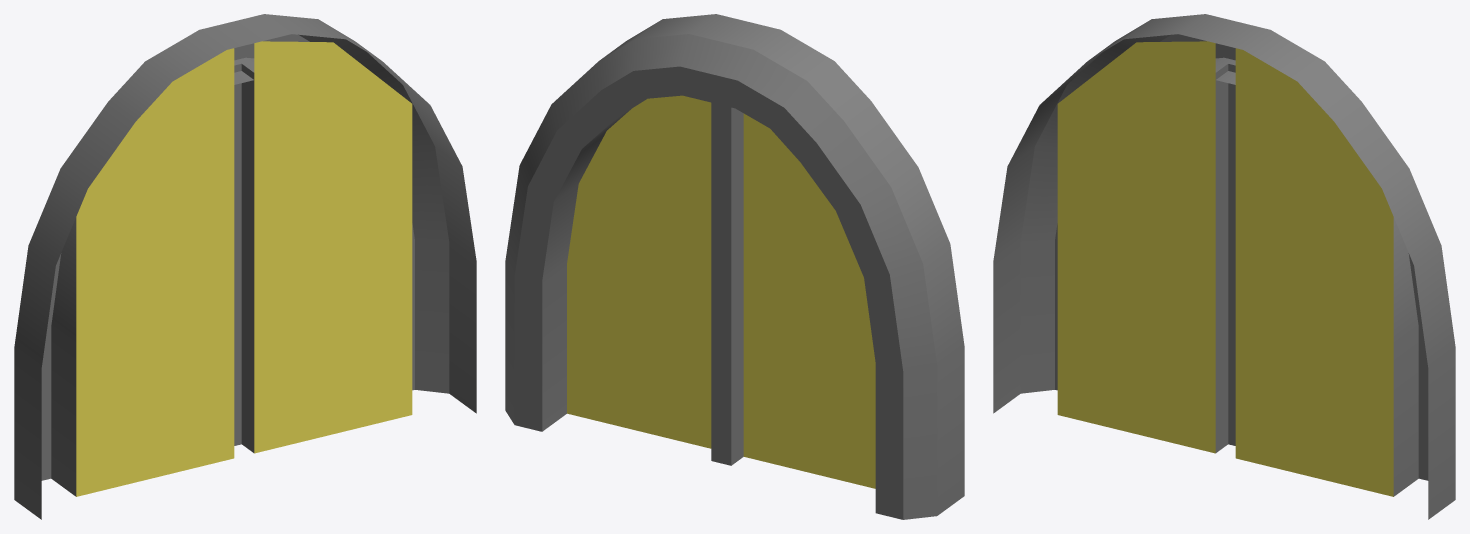
Rendered from TallWindow_Top.fbx.
3 renders of one model, left to right at view 1: azimuth 30°, elevation 25°; view 2: azimuth 150°, elevation 25°; view 3: azimuth 330°, elevation 25°, orthographic.
Visible parts, largest first — view 1: TallWindow_Top; view 2: TallWindow_Top; view 3: TallWindow_Top.
Boxes of the visible parts, left/top/right/bottom form: TallWindow_Top: left=14, top=14, right=476, bottom=519; TallWindow_Top: left=505, top=14, right=964, bottom=519; TallWindow_Top: left=993, top=14, right=1455, bottom=519.
Size of the model in its own units: 1 by 0.9332 by 0.1594.
